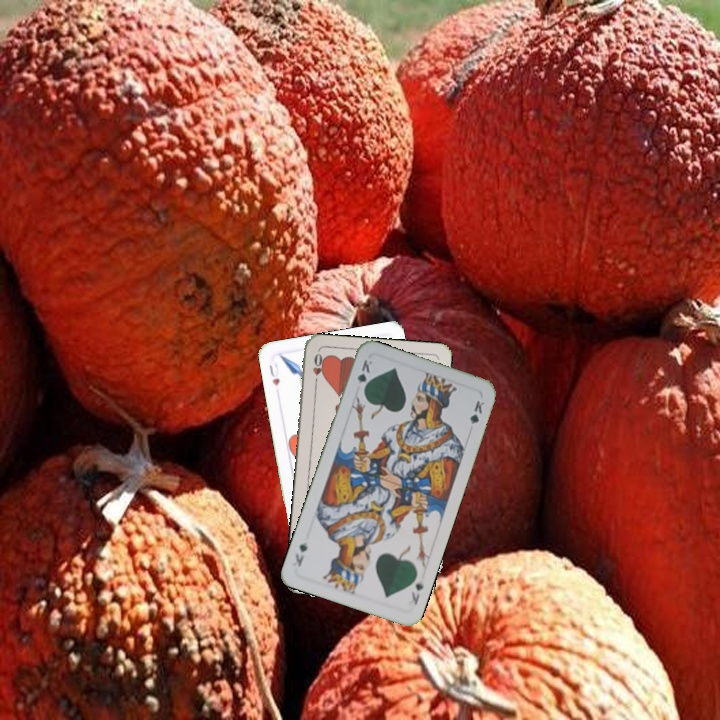GK: (353, 355, 375, 395), (406, 576, 426, 607)
HO: (309, 349, 325, 389)
HU: (265, 359, 282, 389)
